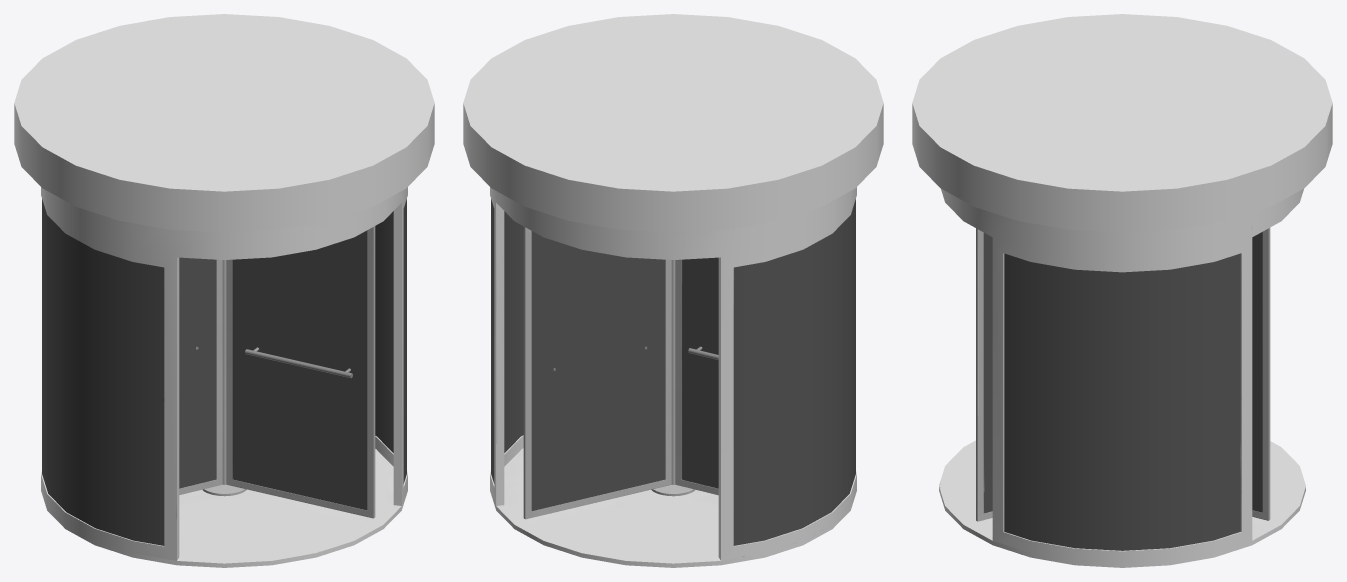
Rendered from porta_giratoria.glb.
The picture shows the model from 3 angles, left to right: view 1: azimuth 30°, elevation 25°; view 2: azimuth 150°, elevation 25°; view 3: azimuth 270°, elevation 25°; orthographic projection.
Parts seen in each view (by area): view 1: RevovlingDoor_DoorFrame_LOD0, RevolvingDoor_MainDoor_LOD0, RevolvingDoor_Base_LOD0; view 2: RevovlingDoor_DoorFrame_LOD0, RevolvingDoor_MainDoor_LOD0, RevolvingDoor_Base_LOD0; view 3: RevovlingDoor_DoorFrame_LOD0, RevolvingDoor_MainDoor_LOD0, RevolvingDoor_Base_LOD0.
Boxes of the visible parts, bbox=[...] form: RevovlingDoor_DoorFrame_LOD0: bbox=[14, 14, 434, 560]; RevolvingDoor_MainDoor_LOD0: bbox=[179, 226, 375, 518]; RevolvingDoor_Base_LOD0: bbox=[41, 449, 407, 567]; RevovlingDoor_DoorFrame_LOD0: bbox=[463, 14, 883, 560]; RevolvingDoor_MainDoor_LOD0: bbox=[523, 226, 718, 519]; RevolvingDoor_Base_LOD0: bbox=[490, 448, 856, 567]; RevovlingDoor_DoorFrame_LOD0: bbox=[912, 14, 1332, 563]; RevolvingDoor_MainDoor_LOD0: bbox=[976, 228, 1270, 521]; RevolvingDoor_Base_LOD0: bbox=[939, 440, 1305, 567].
Size of what is drawn, in the model's own units: 3.24 by 3.29 by 3.24.
1 material, 1 textured.
